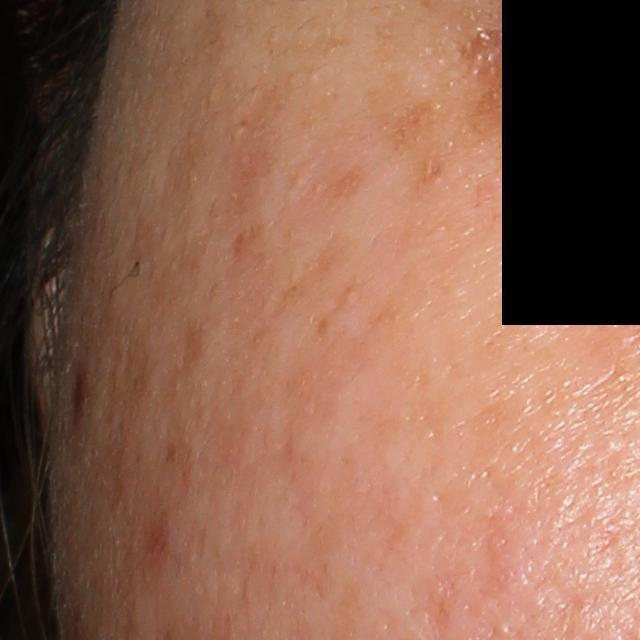melasma: (329, 165, 366, 206)
